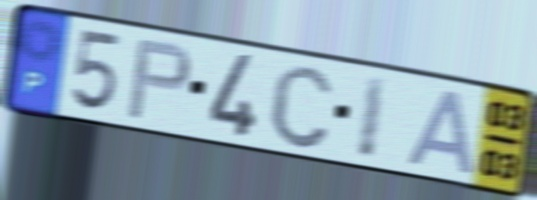4: (204, 50, 260, 140)
5: (70, 26, 123, 114)
A: (403, 86, 479, 178)
C: (266, 61, 336, 153)
I: (354, 71, 391, 163)
P: (124, 36, 194, 123)
